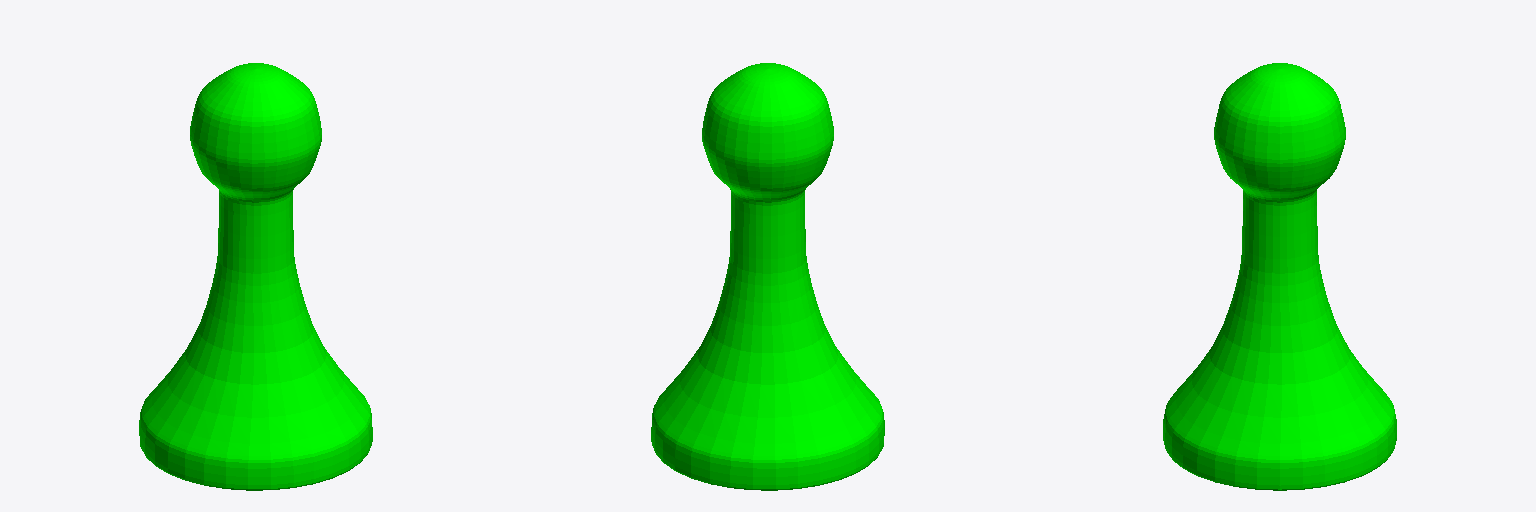
The model's file is green_figure.obj.
3 views of the same model, side by side, from view 1: azimuth 30°, elevation 25°; view 2: azimuth 150°, elevation 25°; view 3: azimuth 270°, elevation 25° (orthographic).
Parts seen in each view (by area): view 1: Cube; view 2: Cube; view 3: Cube.
Boxes of the visible parts, x1=… form: Cube: x1=139, y1=63, x2=372, y2=490; Cube: x1=651, y1=63, x2=884, y2=490; Cube: x1=1163, y1=63, x2=1396, y2=490.
Size of the model in its own units: 2.56 by 4.51 by 2.56.